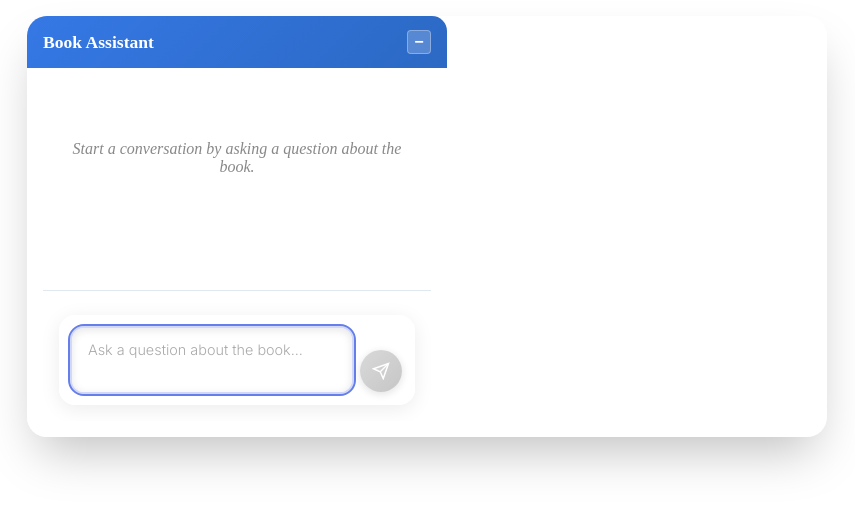
Test case: End-to-End Tests: All User Stories › Cross-Cutting Features › loading states are displayed during API communication
// Submit a query
Type "Test query" into the field with placeholder "Ask a question about the book..." at (212, 360), box [72,328,352,392]
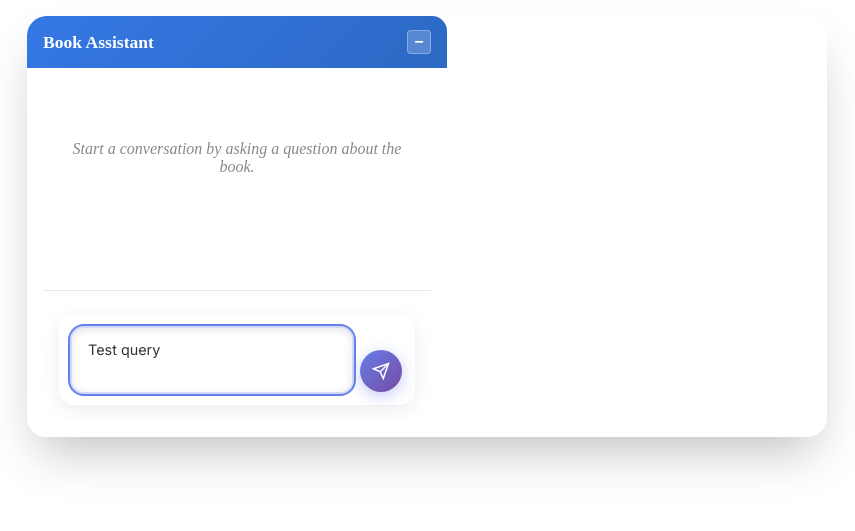
Click the button named "Send message" at (381, 371), box [360,350,402,392]
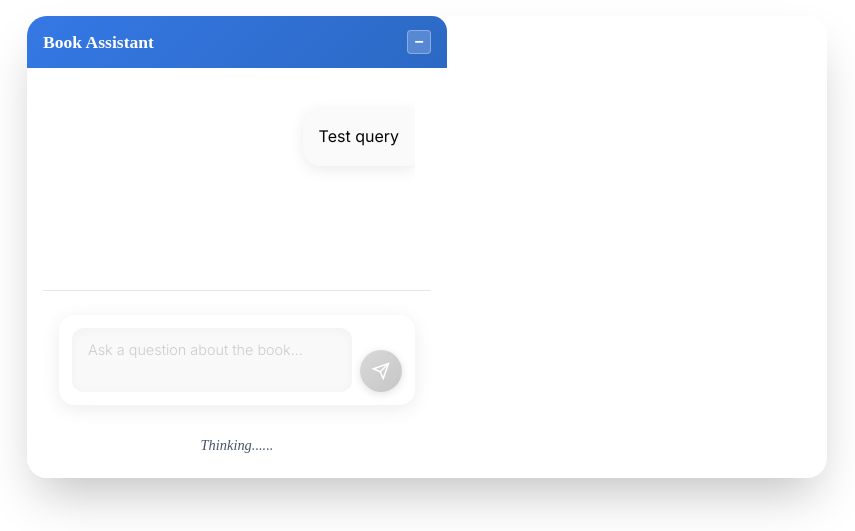
expect the text "Thinking..." is shown: met, box [201,437,273,454]
